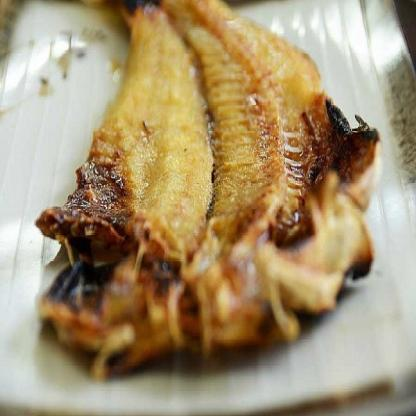Peixe: (18, 0, 391, 385)
